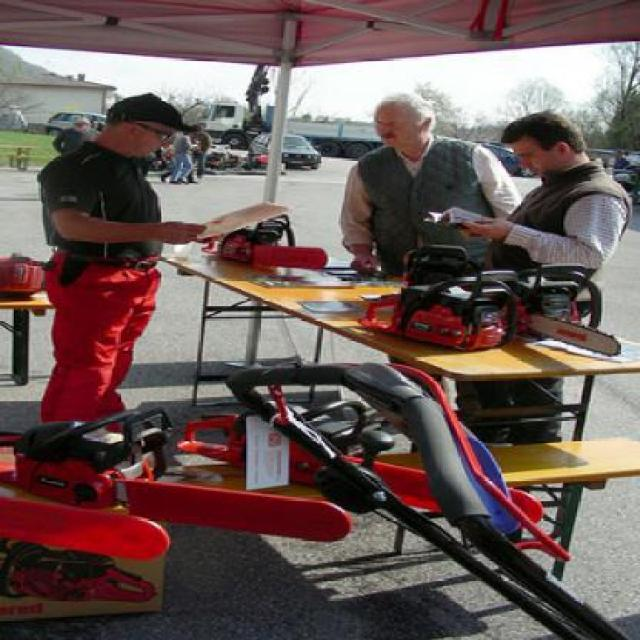Chainsaw: (0, 400, 349, 546), (352, 251, 623, 366)
